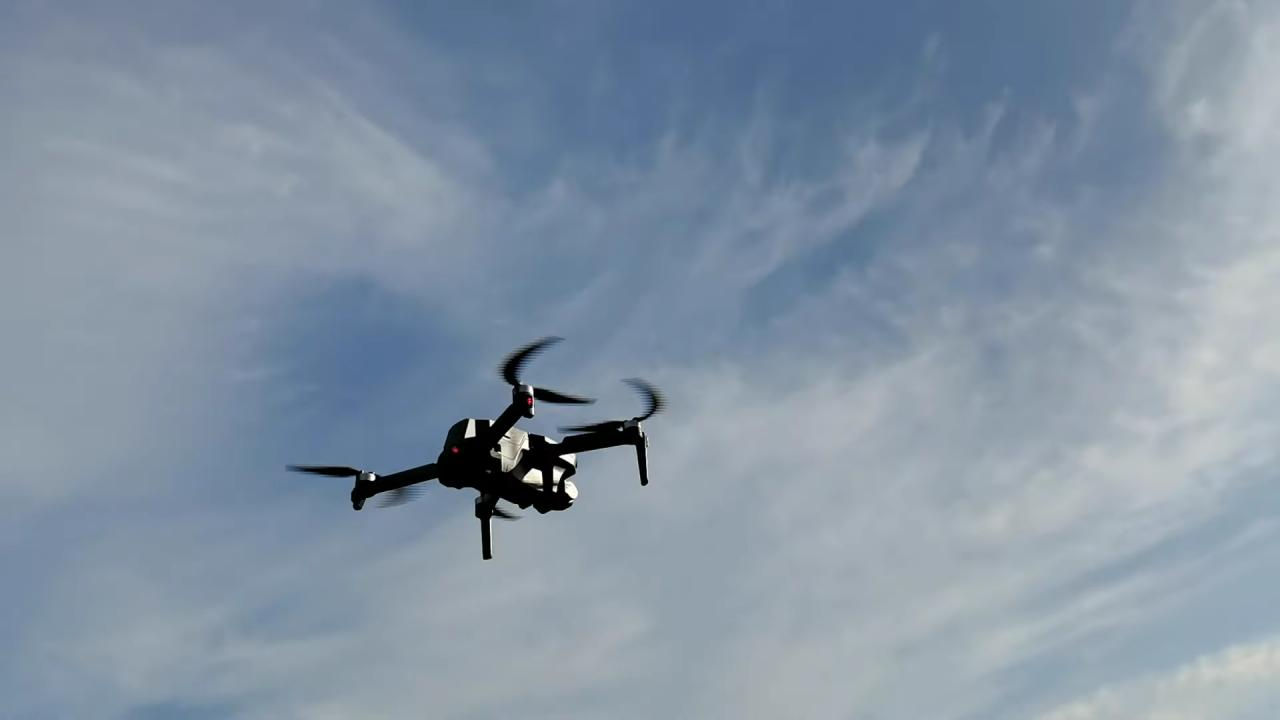Drone: (271, 322, 678, 580)
